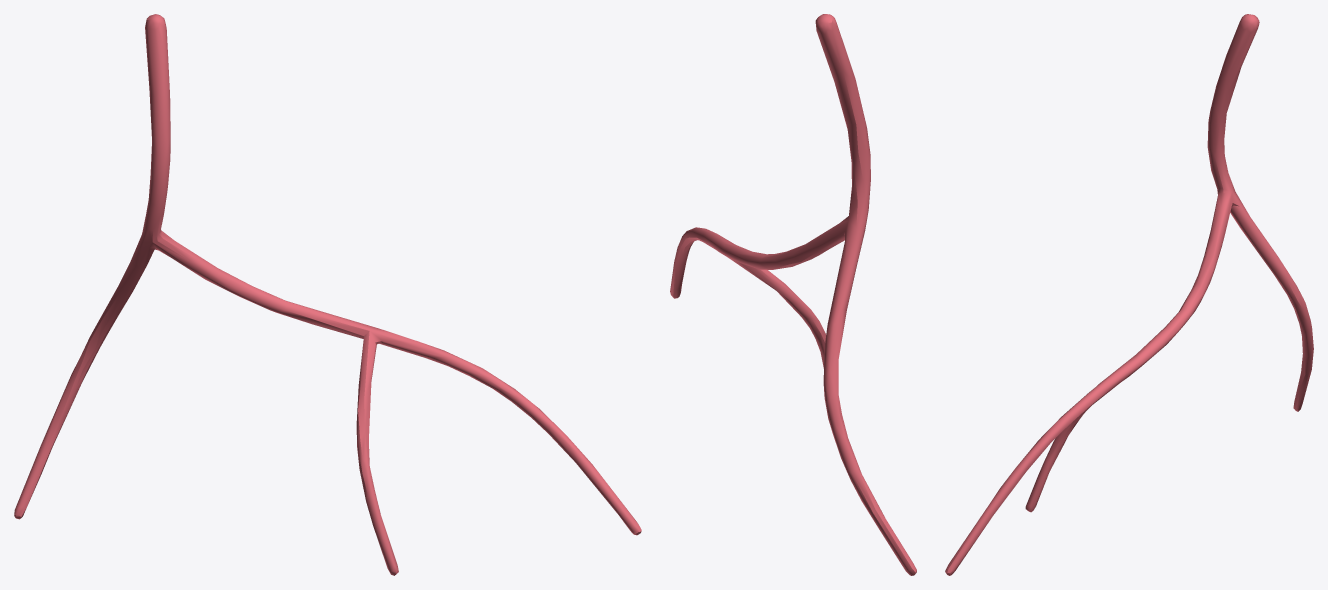
Rendered from fma52539_fj5203.glb.
3 renders of one model, left to right at view 1: azimuth 30°, elevation 25°; view 2: azimuth 150°, elevation 25°; view 3: azimuth 270°, elevation 25°, orthographic. The views are drawn at different scales.
Parts seen in each view (by area): view 1: FMA52539_FJ5203; view 2: FMA52539_FJ5203; view 3: FMA52539_FJ5203.
Boxes of the visible parts, left/top/right/bottom form: FMA52539_FJ5203: left=14, top=14, right=641, bottom=575; FMA52539_FJ5203: left=670, top=14, right=916, bottom=575; FMA52539_FJ5203: left=945, top=14, right=1313, bottom=575.
Bounding box in the file's own units: 0.0223 × 0.0246 × 0.0184.
